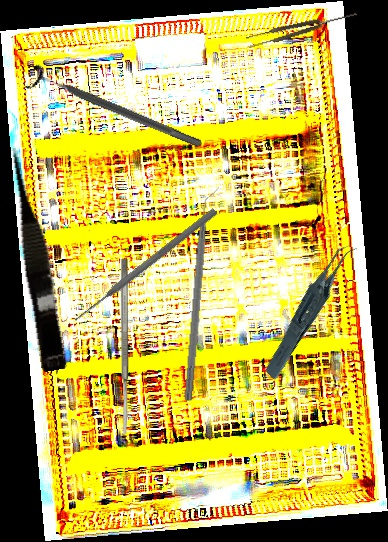Chopper: (183, 185, 223, 403)
Fixation Ring: (23, 61, 207, 158)
Micro Scissor: (3, 144, 73, 373)
Pusher: (71, 206, 219, 325)
Spatula Surgical: (120, 259, 129, 434)
Tissue Forceps: (240, 239, 384, 382), (245, 8, 359, 49)
